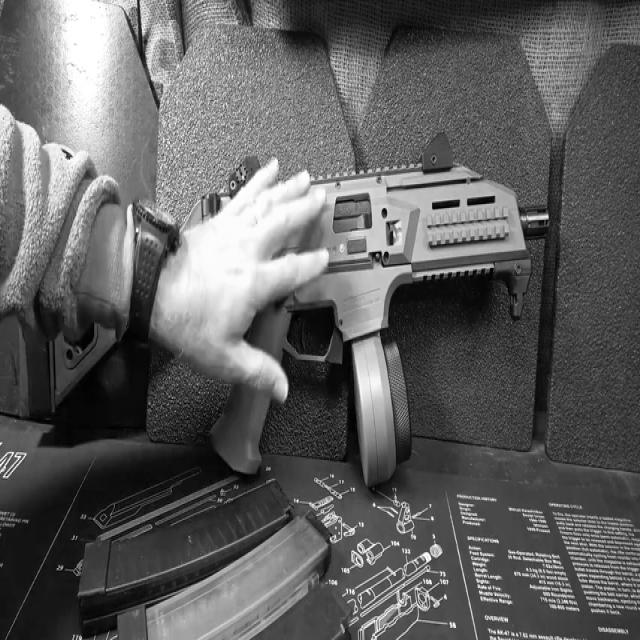Sub-machine-gun: (136, 104, 581, 582)
